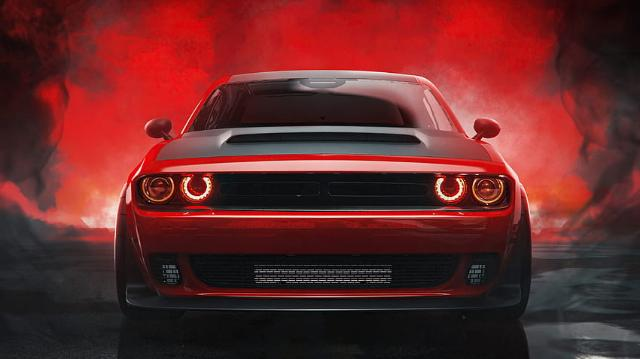dodge: (115, 70, 533, 328)
